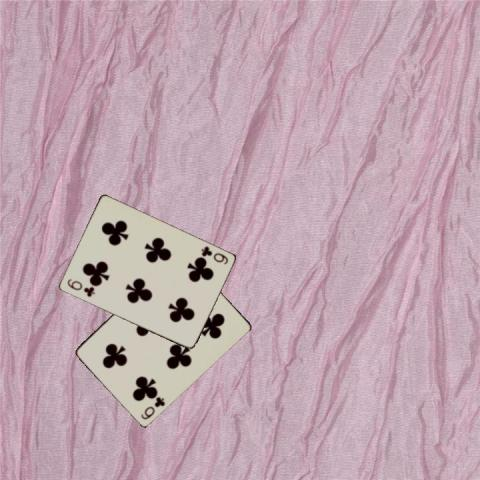6c: (138, 393, 167, 421), (64, 275, 96, 299), (198, 243, 229, 266)
